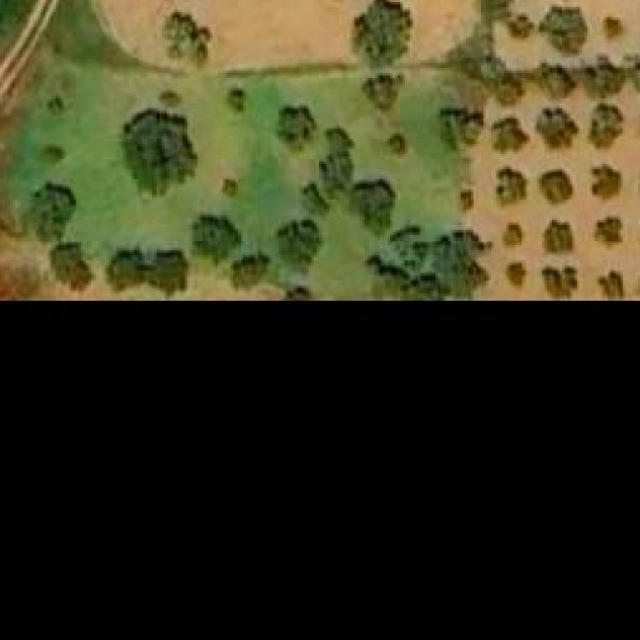Tree: (122, 109, 200, 198), (355, 0, 413, 66), (434, 233, 489, 294), (27, 179, 76, 240), (192, 213, 241, 266), (539, 5, 587, 59), (471, 56, 524, 101), (319, 124, 356, 186), (352, 182, 393, 236), (160, 14, 204, 63), (273, 106, 319, 152), (276, 220, 322, 265), (535, 108, 580, 152), (147, 248, 190, 294), (49, 243, 92, 289), (104, 248, 148, 292), (392, 225, 430, 270), (537, 169, 575, 213), (587, 159, 623, 205), (587, 103, 623, 149), (440, 108, 479, 147), (363, 73, 403, 111), (233, 253, 271, 289), (537, 63, 572, 101), (491, 116, 527, 152), (542, 265, 580, 299), (496, 167, 527, 208), (302, 179, 332, 221), (542, 220, 575, 255), (585, 66, 619, 96), (597, 10, 628, 41), (597, 270, 628, 299), (506, 12, 537, 41), (594, 218, 623, 248), (504, 263, 528, 297), (215, 171, 243, 200), (453, 184, 481, 213), (501, 222, 525, 250), (40, 142, 64, 167), (226, 88, 246, 114), (385, 132, 405, 155), (48, 93, 69, 114), (162, 90, 180, 108)
